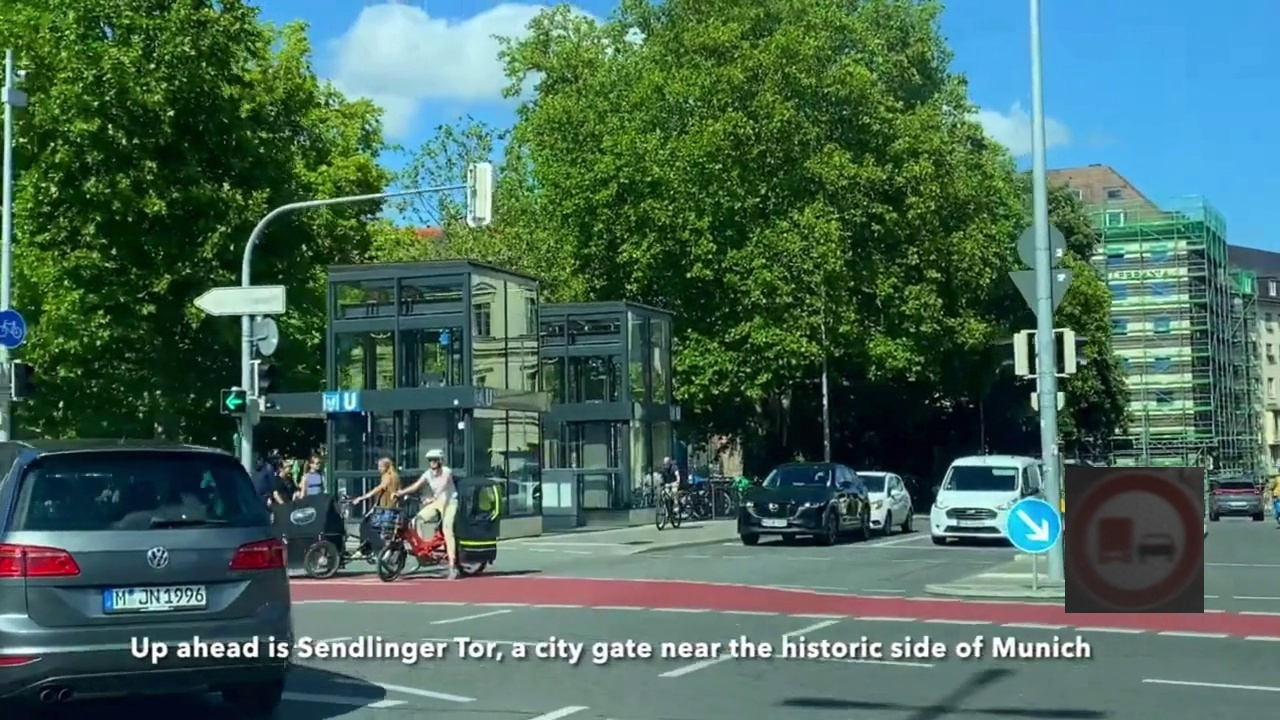No pass >3.5t: (1065, 467, 1204, 613)
